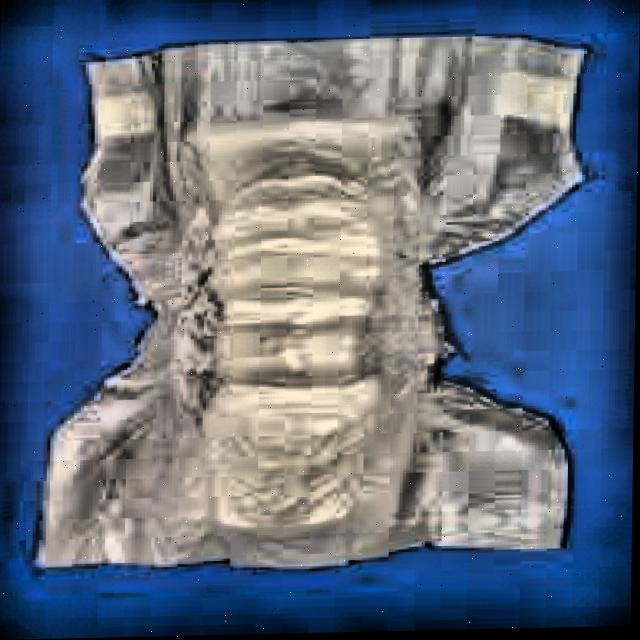trash: (29, 28, 597, 570)
